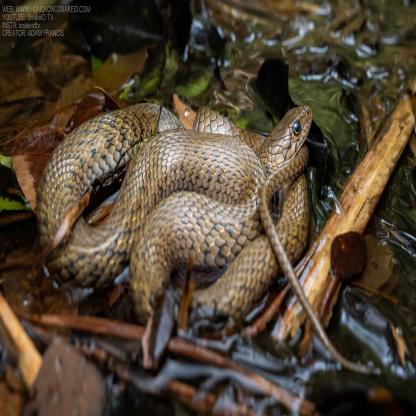Snake: (36, 98, 312, 318)
